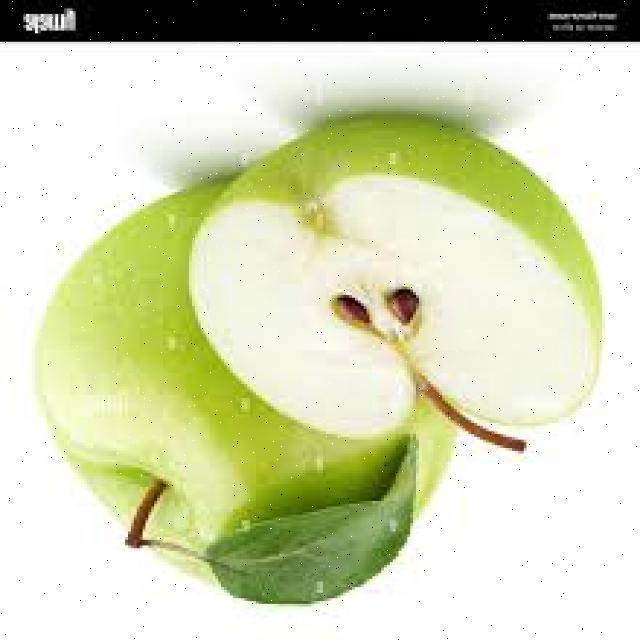Apple: (34, 191, 457, 583), (185, 114, 606, 440)
